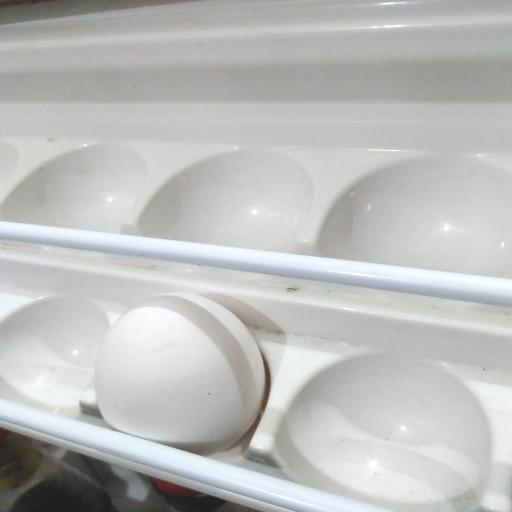telur: (96, 283, 273, 455)
